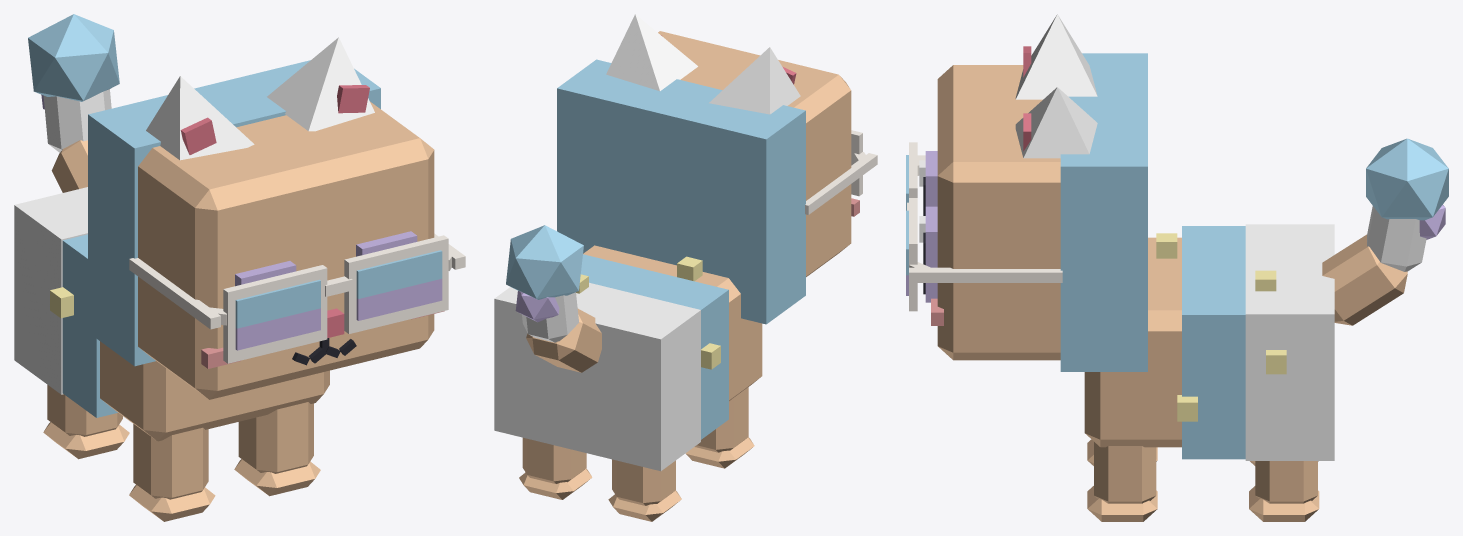
File: CatCafe_Cat_Mirage.fbx
3 renders of one model, left to right at view 1: azimuth 30°, elevation 25°; view 2: azimuth 150°, elevation 25°; view 3: azimuth 270°, elevation 25°, orthographic. The views are drawn at different scales.
Parts seen in each view (by area): view 1: CatCafe_Cat_Mirage_Head, CatCafe_Cat_Mirage_Body, CatCafe_Cat_Mirage_Prop, CatCafe_Cat_Mirage_Tail_Glow, CatCafe_Cat_Mirage_LegF2, CatCafe_Cat_Mirage_LegF1, CatCafe_Cat_Mirage_EarL, CatCafe_Cat_Mirage_EarR, CatCafe_Cat_Mirage_Tail, CatCafe_Cat_Mirage_LegB2, CatCafe_Cat_Mirage_Eye1, CatCafe_Cat_Mirage_Eye2; view 2: CatCafe_Cat_Mirage_Head, CatCafe_Cat_Mirage_Body, CatCafe_Cat_Mirage_Tail_Glow, CatCafe_Cat_Mirage_Tail, CatCafe_Cat_Mirage_EarL, CatCafe_Cat_Mirage_EarR, CatCafe_Cat_Mirage_LegB2, CatCafe_Cat_Mirage_LegB1, CatCafe_Cat_Mirage_LegF2, CatCafe_Cat_Mirage_Prop; view 3: CatCafe_Cat_Mirage_Head, CatCafe_Cat_Mirage_Body, CatCafe_Cat_Mirage_Tail, CatCafe_Cat_Mirage_Tail_Glow, CatCafe_Cat_Mirage_LegF1, CatCafe_Cat_Mirage_Prop, CatCafe_Cat_Mirage_EarR, CatCafe_Cat_Mirage_EarL, CatCafe_Cat_Mirage_LegB1, CatCafe_Cat_Mirage_Eye1, CatCafe_Cat_Mirage_Eye2.
Boxes of the visible parts, box(x1,y1,x2,y2) form: CatCafe_Cat_Mirage_Head: box(88, 60, 444, 399); CatCafe_Cat_Mirage_Body: box(14, 187, 329, 441); CatCafe_Cat_Mirage_Prop: box(129, 233, 465, 363); CatCafe_Cat_Mirage_Tail_Glow: box(28, 14, 119, 109); CatCafe_Cat_Mirage_LegF2: box(129, 424, 215, 521); CatCafe_Cat_Mirage_LegF1: box(234, 402, 320, 496); CatCafe_Cat_Mirage_EarL: box(267, 37, 374, 131); CatCafe_Cat_Mirage_EarR: box(146, 76, 254, 160); CatCafe_Cat_Mirage_Tail: box(43, 89, 111, 192); CatCafe_Cat_Mirage_LegB2: box(43, 385, 129, 459); CatCafe_Cat_Mirage_Eye1: box(356, 231, 417, 256); CatCafe_Cat_Mirage_Eye2: box(235, 261, 296, 286); CatCafe_Cat_Mirage_Head: box(557, 31, 859, 324); CatCafe_Cat_Mirage_Body: box(494, 245, 762, 471); CatCafe_Cat_Mirage_Tail_Glow: box(506, 225, 583, 322); CatCafe_Cat_Mirage_Tail: box(522, 292, 601, 372); CatCafe_Cat_Mirage_EarL: box(606, 14, 697, 91); CatCafe_Cat_Mirage_EarR: box(709, 47, 800, 114); CatCafe_Cat_Mirage_LegB2: box(608, 459, 681, 521); CatCafe_Cat_Mirage_LegB1: box(519, 437, 592, 499); CatCafe_Cat_Mirage_LegF2: box(685, 387, 754, 468); CatCafe_Cat_Mirage_Prop: box(805, 130, 877, 214); CatCafe_Cat_Mirage_Head: box(931, 53, 1147, 371); CatCafe_Cat_Mirage_Body: box(1084, 224, 1334, 460); CatCafe_Cat_Mirage_Tail: box(1322, 206, 1426, 325); CatCafe_Cat_Mirage_Tail_Glow: box(1366, 138, 1448, 239); CatCafe_Cat_Mirage_LegF1: box(1087, 442, 1157, 521); CatCafe_Cat_Mirage_Prop: box(906, 142, 1062, 311); CatCafe_Cat_Mirage_EarR: box(1015, 14, 1097, 99); CatCafe_Cat_Mirage_EarL: box(1015, 87, 1097, 158); CatCafe_Cat_Mirage_LegB1: box(1249, 461, 1319, 521); CatCafe_Cat_Mirage_Eye1: box(919, 206, 937, 302); CatCafe_Cat_Mirage_Eye2: box(919, 151, 937, 215).
Size of the model in its own units: 1.07 by 1.86 by 2.08.
Materials: 1 (1 with a texture image).
